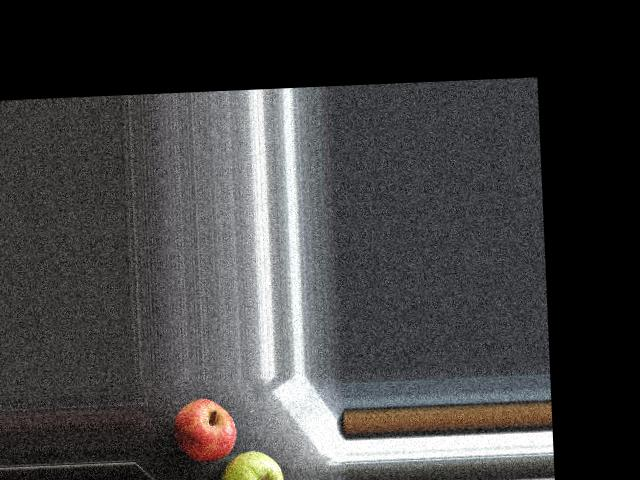apple: (169, 395, 239, 460)
